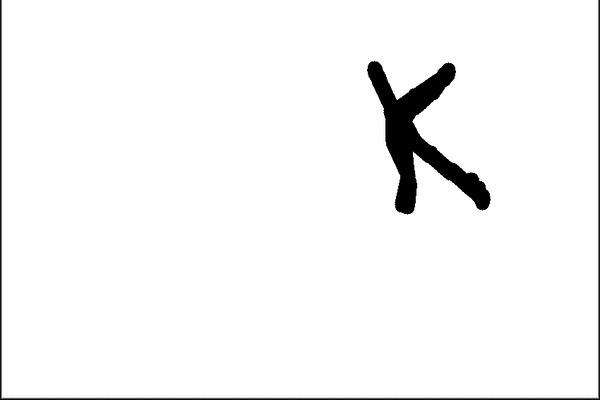K: (357, 49, 498, 224)
